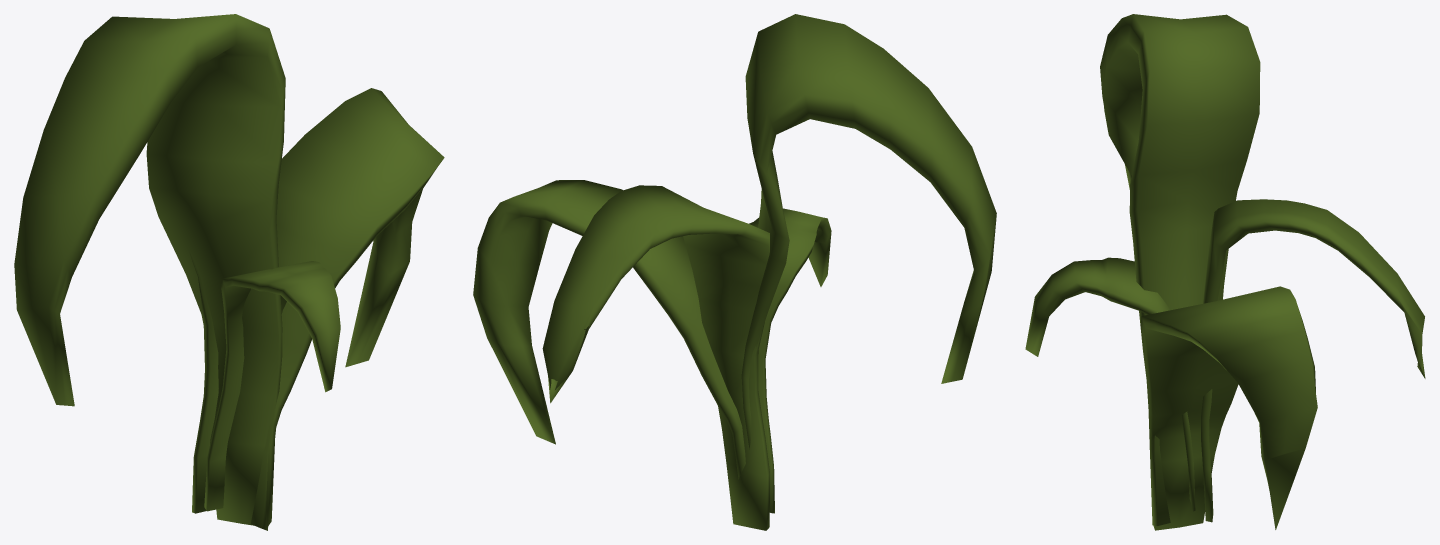
The model's file is StressPlant.fbx.
3 views of the same model, side by side, from view 1: azimuth 30°, elevation 25°; view 2: azimuth 150°, elevation 25°; view 3: azimuth 270°, elevation 25° (orthographic). The views are drawn at different scales.
Parts seen in each view (by area): view 1: PlantStress; view 2: PlantStress; view 3: PlantStress.
Part boxes in pixels (x1,y1,x2,y2): PlantStress: (14, 14, 444, 530); PlantStress: (473, 14, 996, 530); PlantStress: (1025, 14, 1425, 530).
Bounding box in the file's own units: 39.86 × 43.48 × 32.66.
